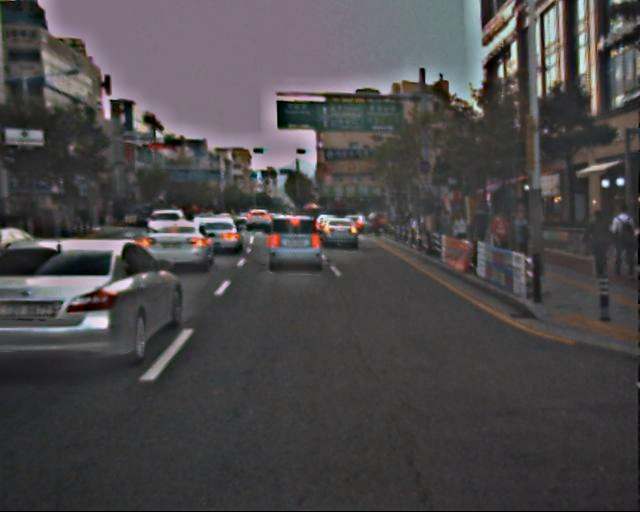person: (607, 205, 637, 277), (505, 212, 534, 283), (583, 209, 611, 277), (468, 209, 492, 268), (489, 215, 513, 273), (452, 213, 473, 263)
